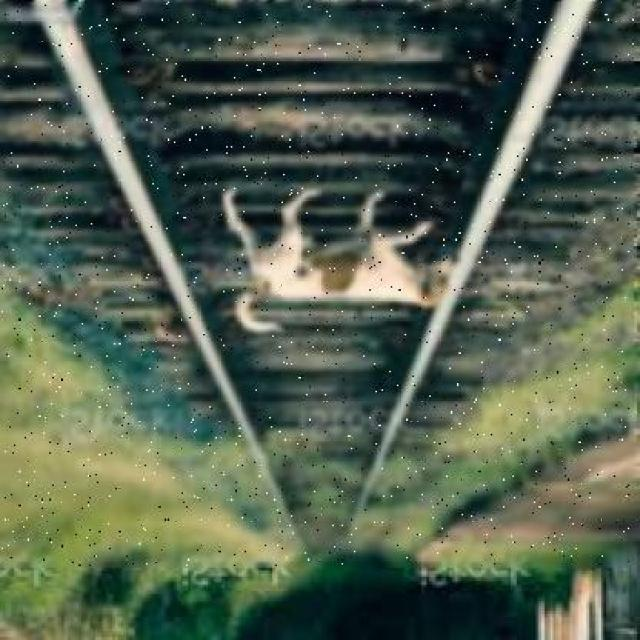danger: (208, 186, 456, 309)
rail: (2, 0, 634, 567)
